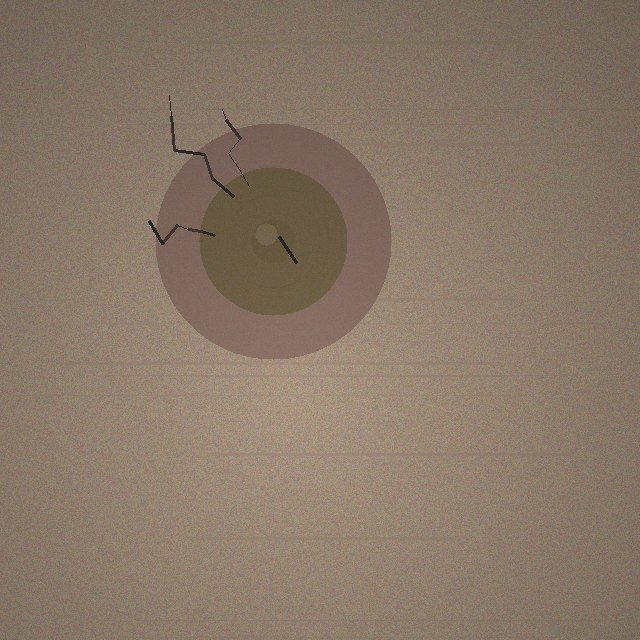crack: (155, 123, 391, 359)
